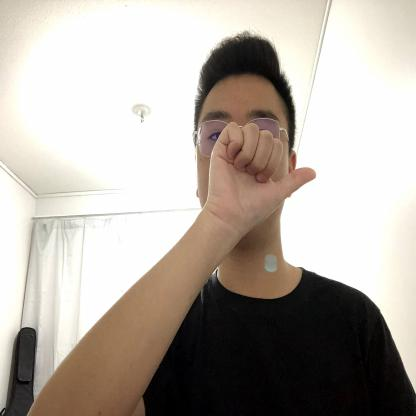left: (208, 122, 318, 233)
